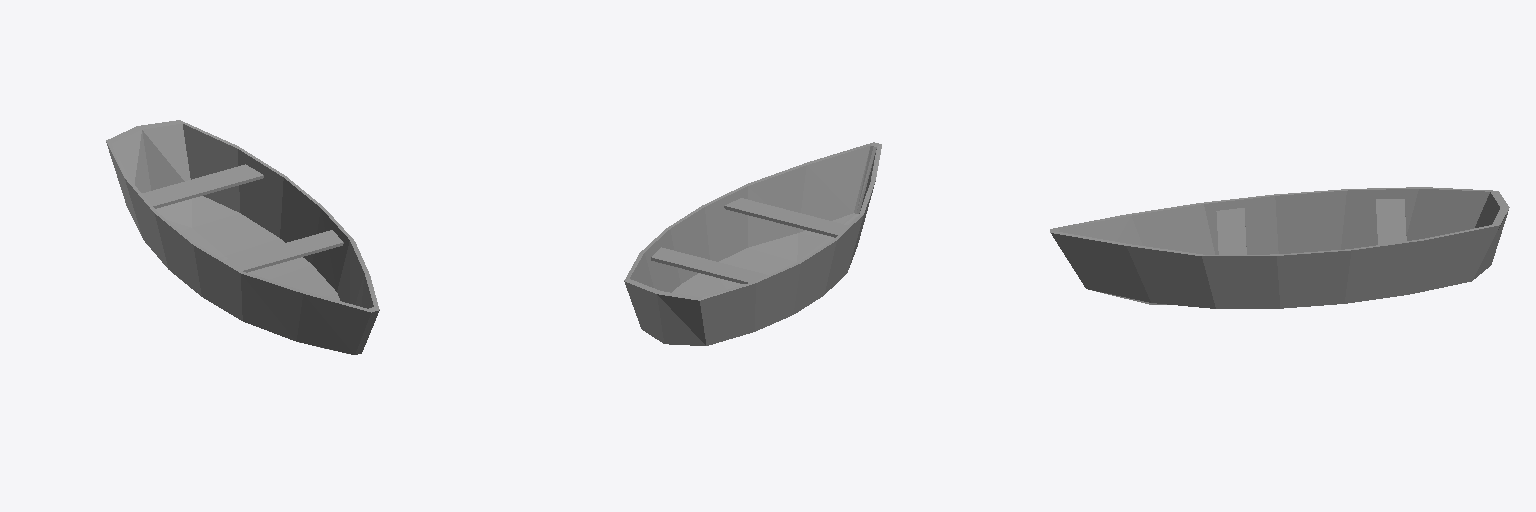
File: boat.obj
3 renders of one model, left to right at view 1: azimuth 30°, elevation 25°; view 2: azimuth 150°, elevation 25°; view 3: azimuth 270°, elevation 25°, orthographic.
Parts seen in each view (by area): view 1: Body, Slats; view 2: Body, Slats; view 3: Body, Slats.
Part boxes in pixels (left/top/right/bottom): Body: left=106, top=120, right=379, bottom=354; Slats: left=142, top=164, right=343, bottom=272; Body: left=624, top=142, right=881, bottom=345; Slats: left=651, top=198, right=847, bottom=283; Body: left=1050, top=187, right=1509, bottom=308; Slats: left=1216, top=199, right=1406, bottom=254.
Size of the model in its own units: 4.96 by 3.32 by 14.66.